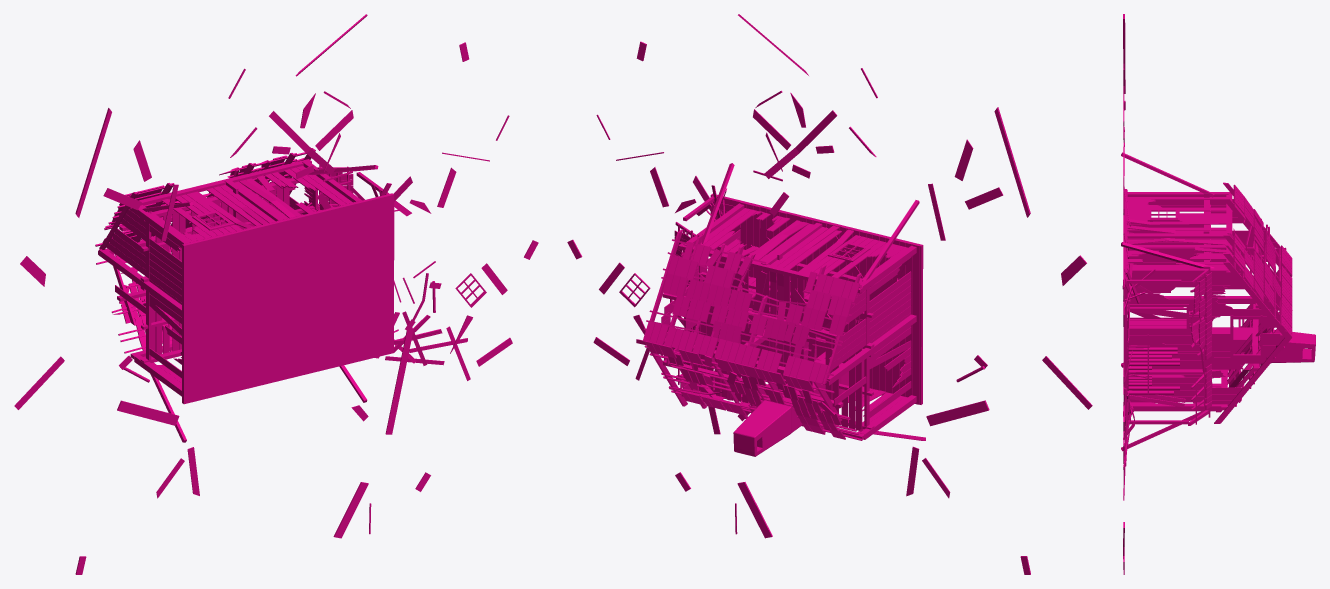
File: abandonhouse.fbx
3 renders of one model, left to right at view 1: azimuth 30°, elevation 25°; view 2: azimuth 150°, elevation 25°; view 3: azimuth 270°, elevation 25°, orthographic. The views are drawn at different scales.
Parts seen in each view (by area): view 1: House; view 2: House; view 3: House.
Boxes of the visible parts, <box> form: House: <box>14,14,538,574</box>; House: <box>567,14,1092,574</box>; House: <box>1121,14,1315,574</box>.
Size of the model in its own units: 1761 by 1671 by 624.
